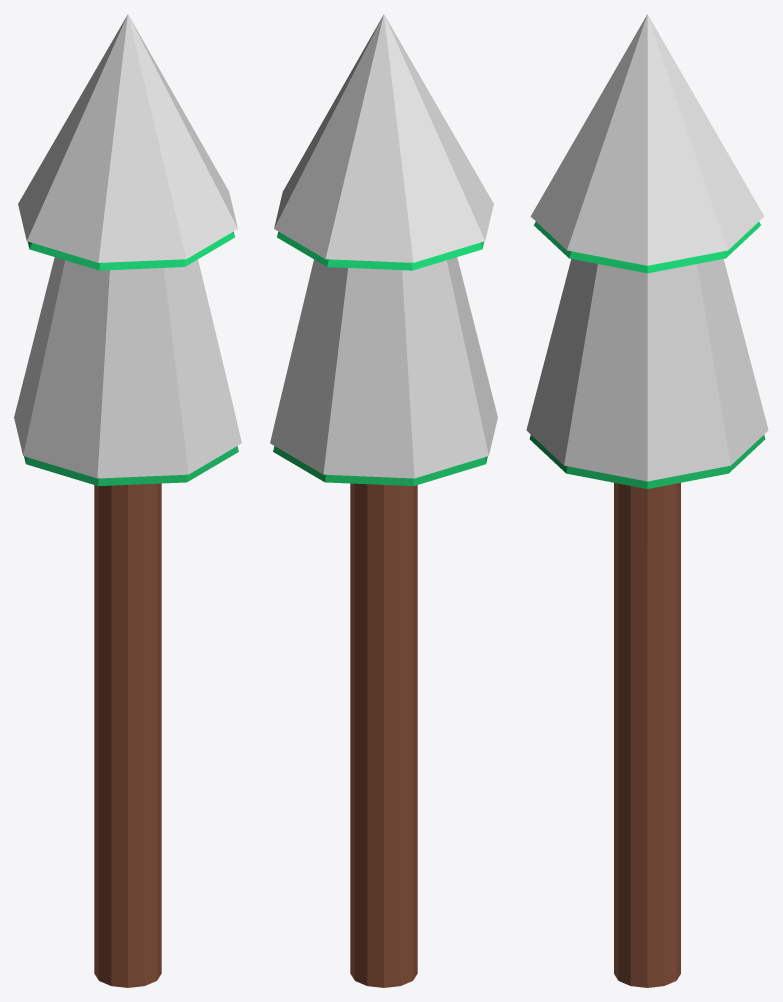
File: Tree_21_winter_gradient_green.fbx
3 views of the same model, side by side, from view 1: azimuth 30°, elevation 25°; view 2: azimuth 150°, elevation 25°; view 3: azimuth 270°, elevation 25° (orthographic).
Visible parts, largest first — view 1: Tree_21_winter_gradient_green; view 2: Tree_21_winter_gradient_green; view 3: Tree_21_winter_gradient_green.
Boxes of the visible parts, x1,y1,x2,y2 form: Tree_21_winter_gradient_green: (14, 14, 241, 987); Tree_21_winter_gradient_green: (270, 14, 497, 987); Tree_21_winter_gradient_green: (526, 14, 768, 987).
Size of the model in its own units: 80.03 by 350 by 80.03.
